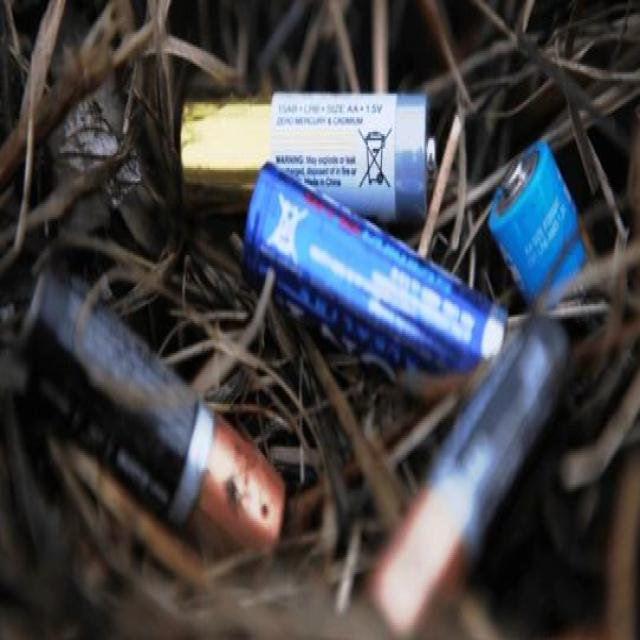electronic: (175, 66, 549, 408)
